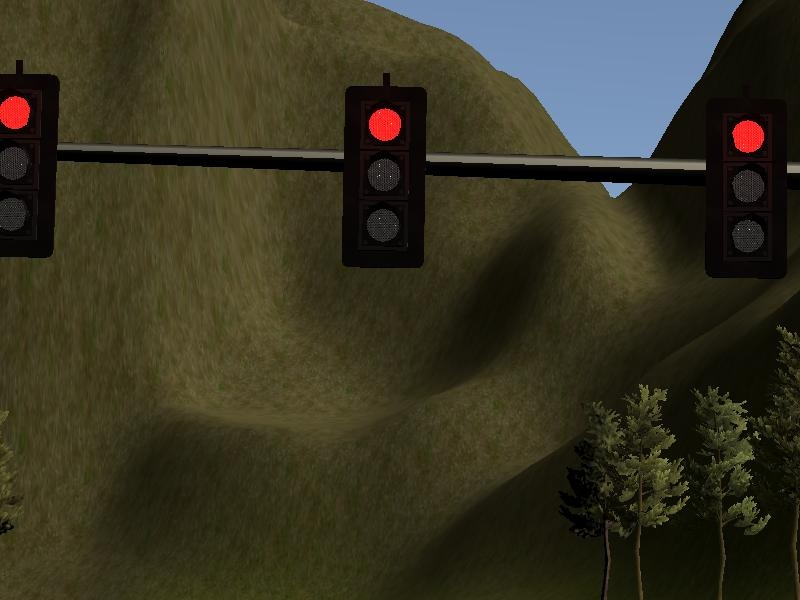red: (335, 77, 427, 276), (704, 94, 794, 286), (1, 70, 63, 268)
